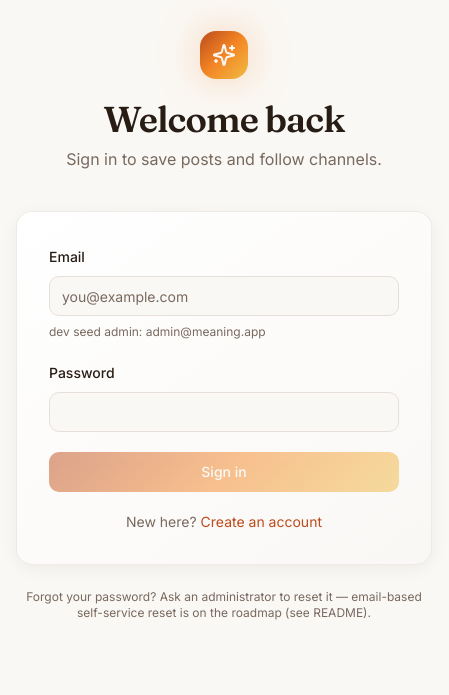
it: Login page › surfaces the server message on invalid credentials and stays put
The width and height of the screenshot is (449, 695).
In the field labelled "Email": {"x": 224, "y": 296} [49,276,399,316], type "a@b.co"
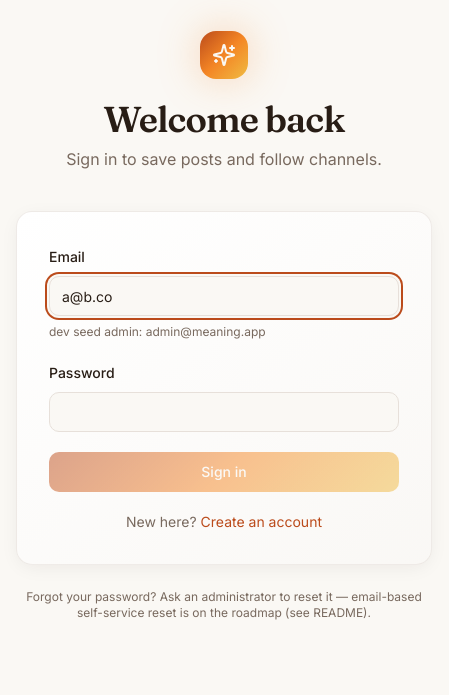
In the password field labelled "Password": {"x": 224, "y": 412} [49,392,399,432], type "wrong-password!"
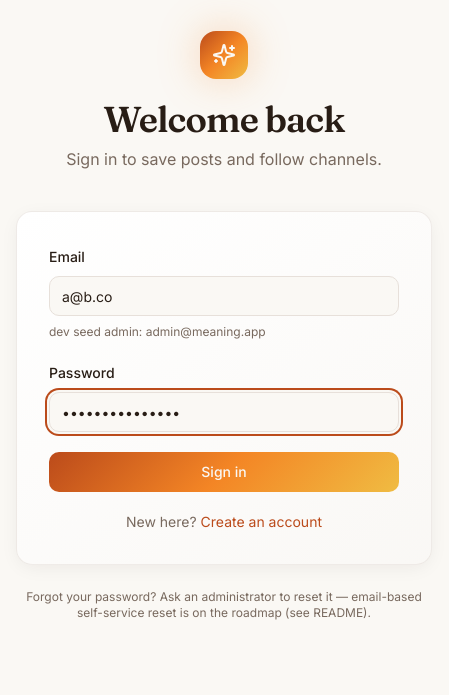
Click the button "Sign in": {"x": 224, "y": 472} [49,452,399,492]
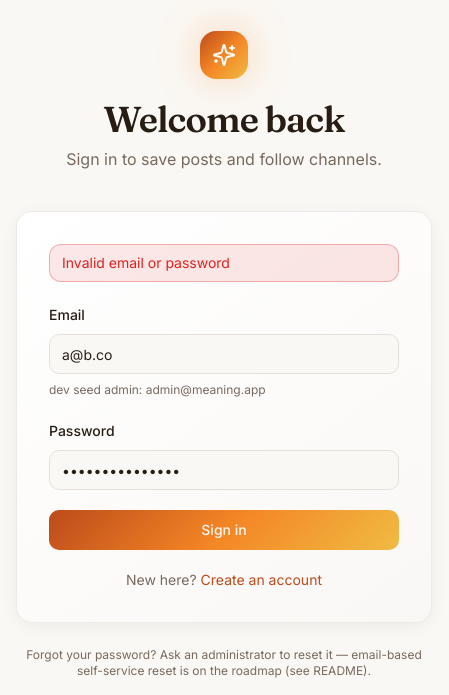
expect the button "Sign in" is enabled: met, box [49,510,399,550]
expect the message reads "Invalid email or password": met, box [62,254,230,271]
